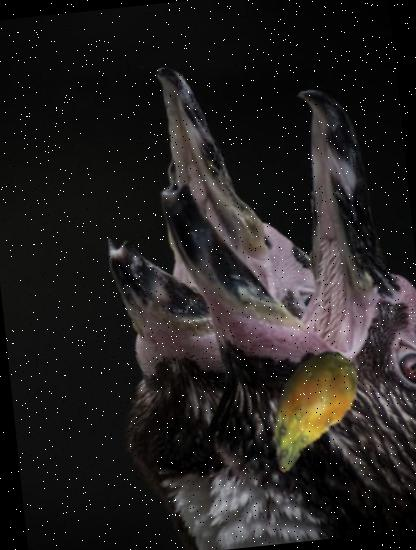Cactus: (236, 339, 378, 481)
